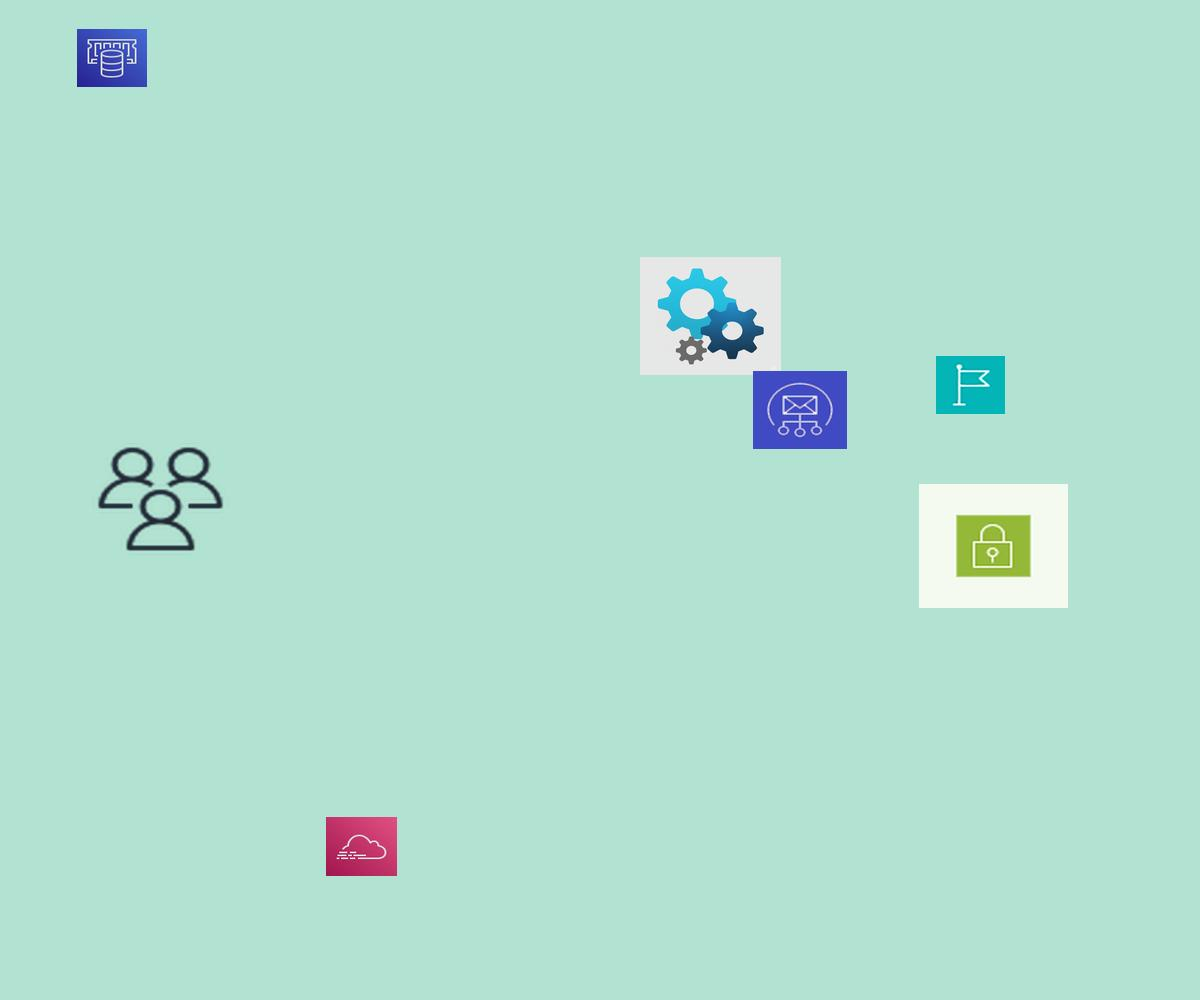AWS-CloudTrail: (326, 817, 397, 876)
AWS-ElastiCache: (77, 29, 147, 87)
AWS-Public-subnet: (919, 484, 1068, 608)
AWS-Region: (936, 356, 1005, 414)
AWS-Res_Users: (93, 443, 228, 555)
AWS-Simple-Email-Service: (753, 371, 847, 449)
Azure_api: (640, 257, 781, 375)
